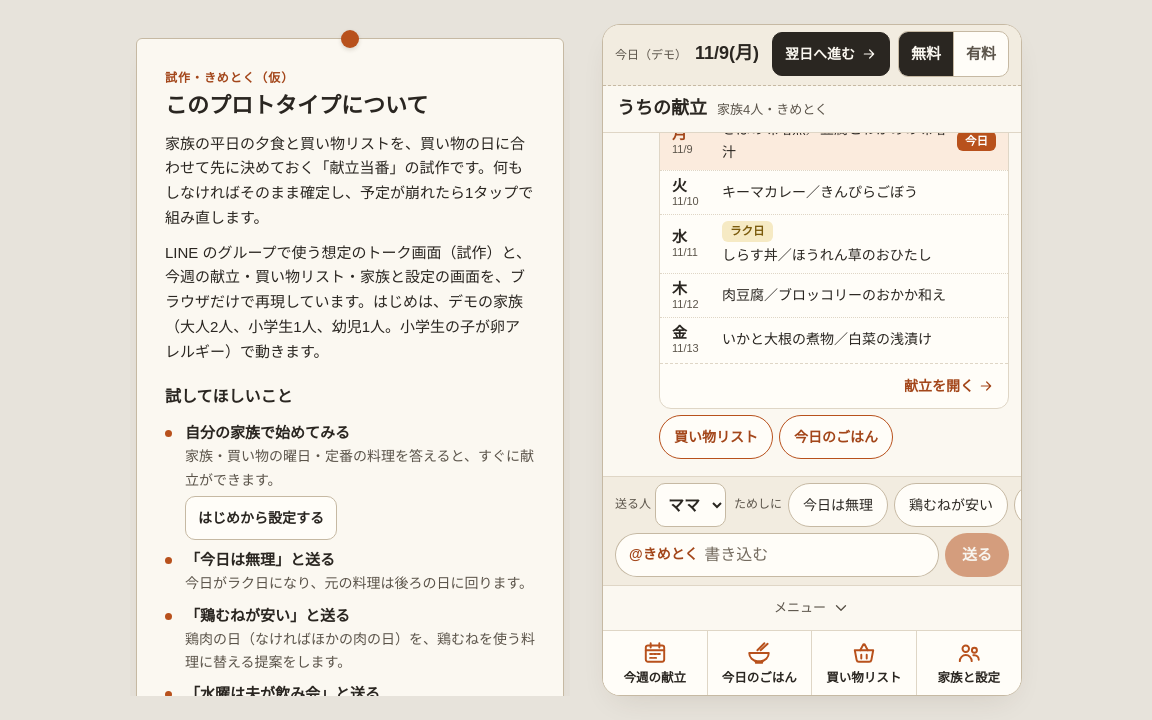
it: 画面での AI の読み取り › session_expired は、ログインし直すようにトーストで知らせ、ルールで返事する
(page scrolled)
Step 1. Type "ふわふわのやつ" into the field named "きめとくへの書き込み" → (815, 555), box [704, 533, 925, 577]
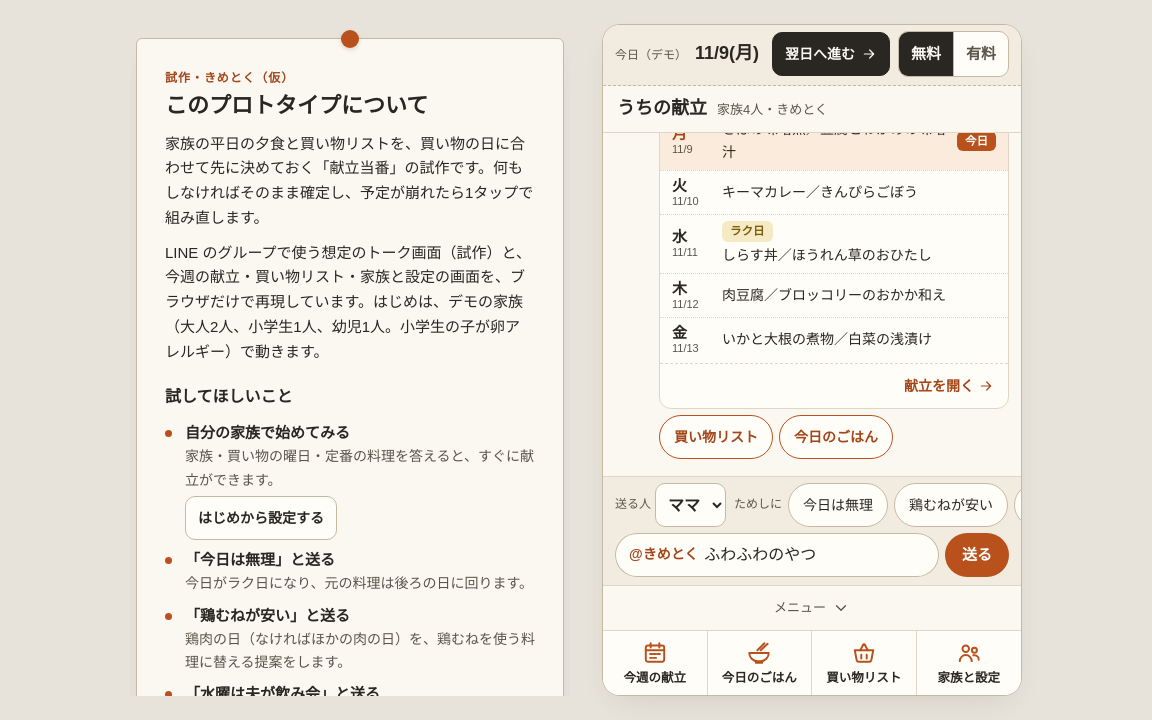
Step 2. Click the button "送る" → (977, 555), box [945, 533, 1009, 577]
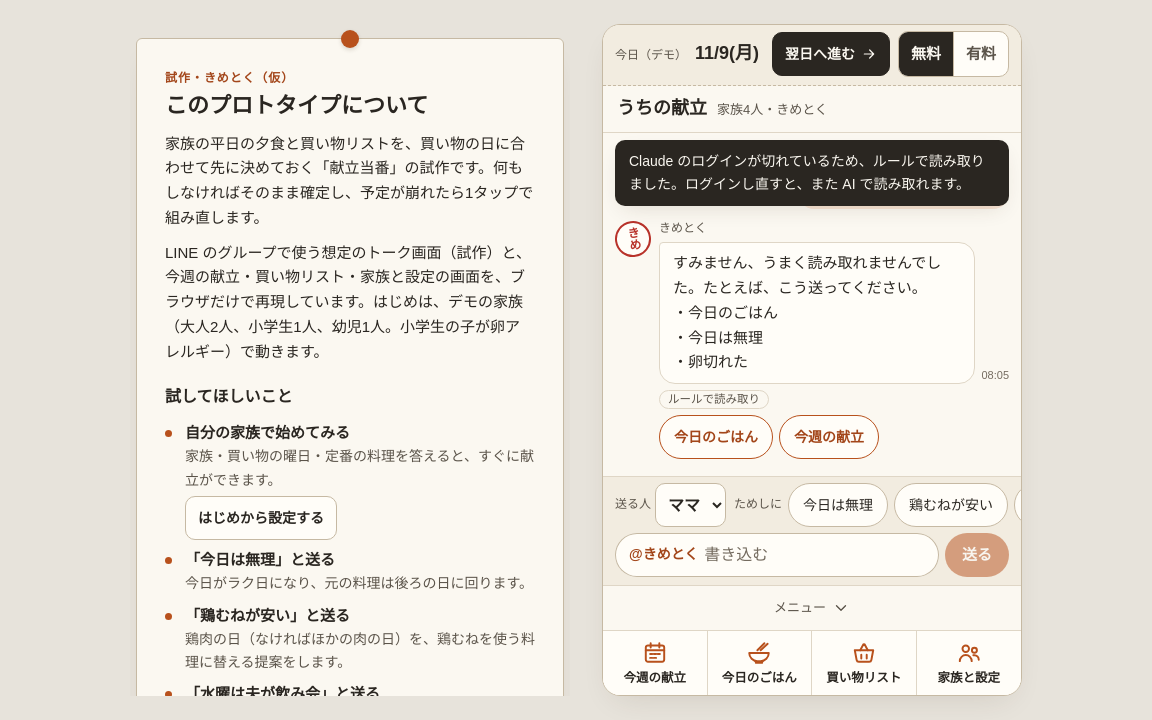
expect the message shows "ログインし直すと": met, box [629, 153, 985, 192]
expect the text "ルールで読み取り" is shown: met, box [659, 390, 769, 409]
